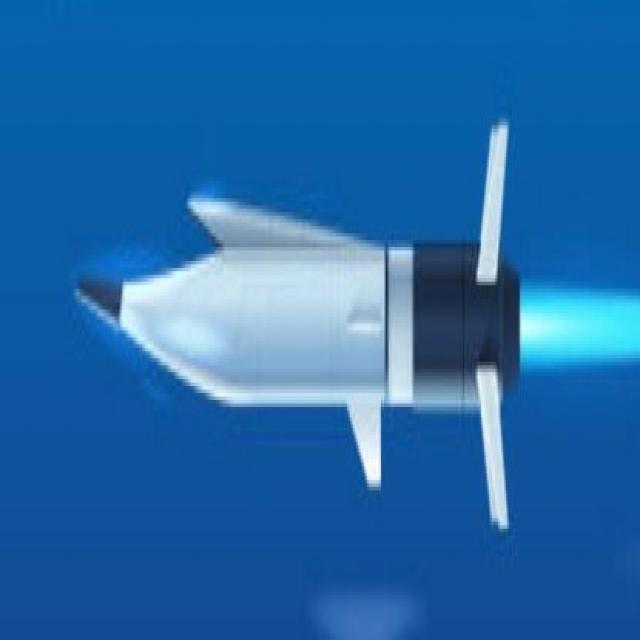missile: (74, 119, 522, 534)
